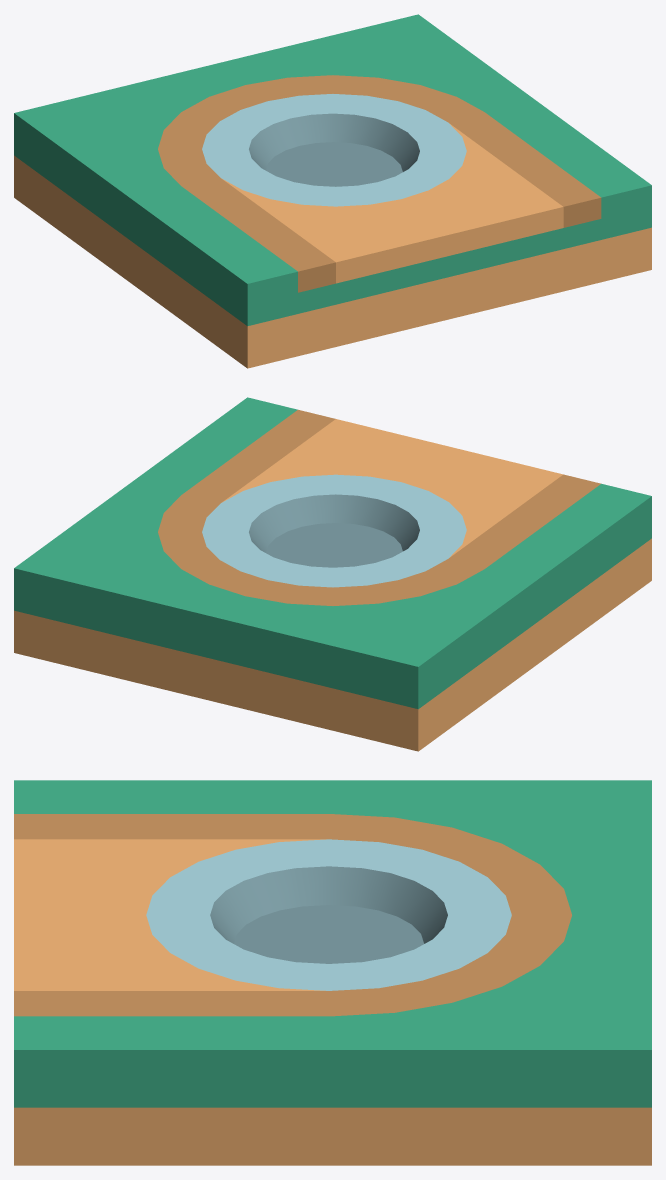
The model's file is tile_endRoundSpawn(+).fbx.
3 views of the same model, one above another, from view 1: azimuth 30°, elevation 25°; view 2: azimuth 150°, elevation 25°; view 3: azimuth 270°, elevation 25° (orthographic). The views are drawn at different scales.
Parts seen in each view (by area): view 1: Mesh_4; view 2: Mesh_4; view 3: Mesh_4.
Part boxes in pixels (bbox=[...]): Mesh_4: bbox=[14, 14, 651, 368]; Mesh_4: bbox=[14, 397, 651, 751]; Mesh_4: bbox=[14, 780, 651, 1165].
Size of the model in its own units: 100 by 20 by 100.
